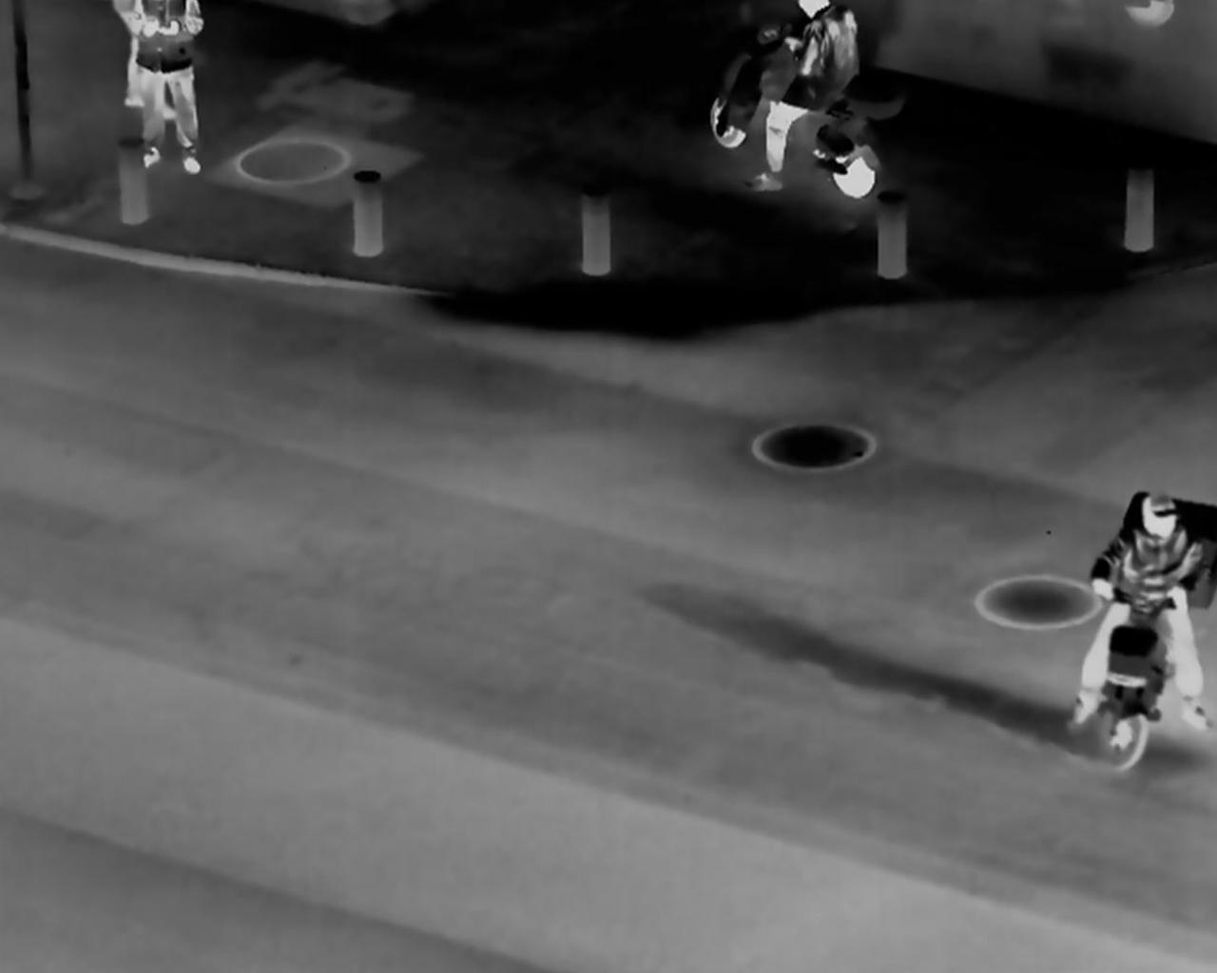person: (1066, 483, 1217, 747)
